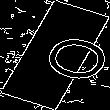O_NW: (11, 25, 99, 85)
